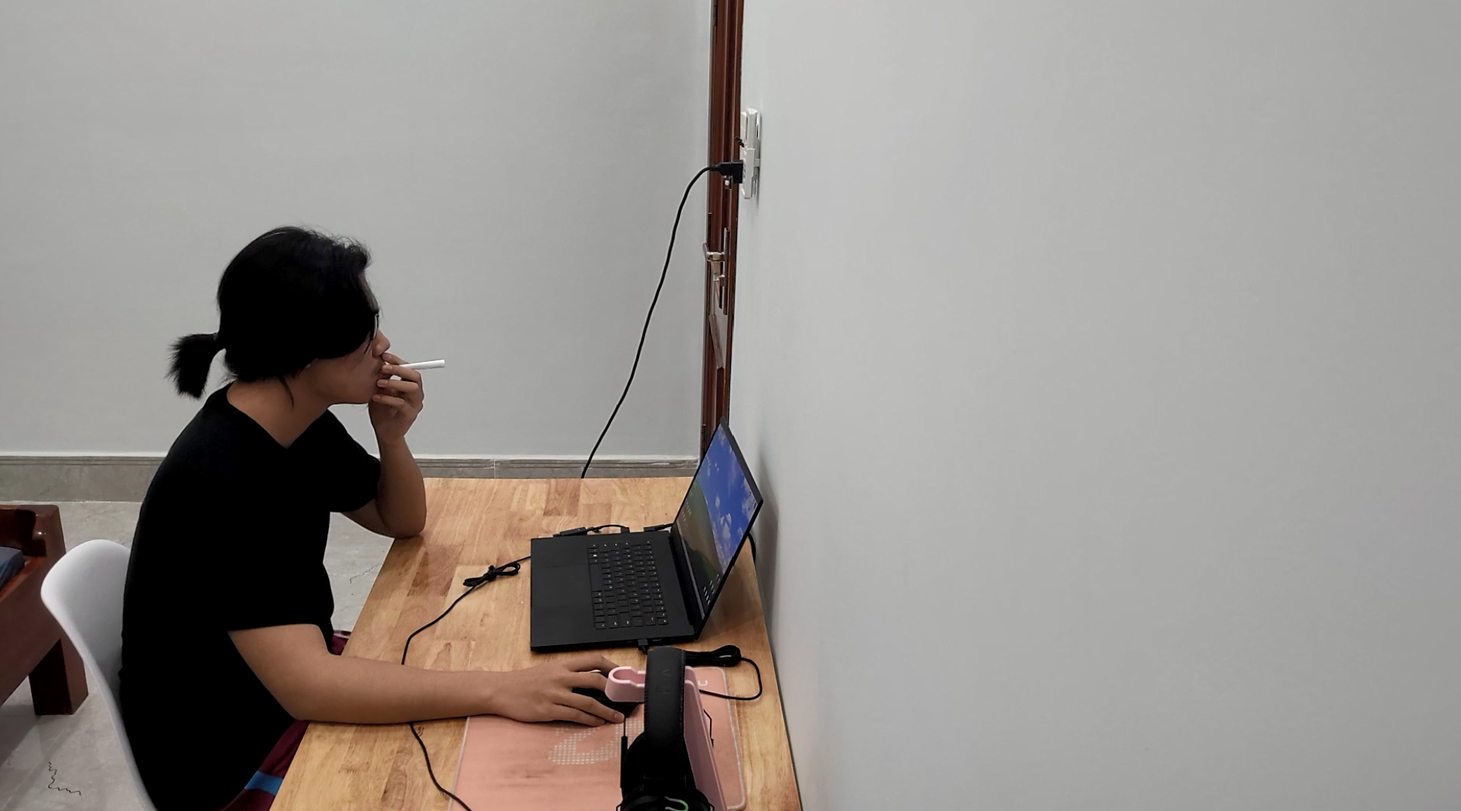cigarette: (397, 354, 448, 375)
person: (98, 192, 439, 811)
